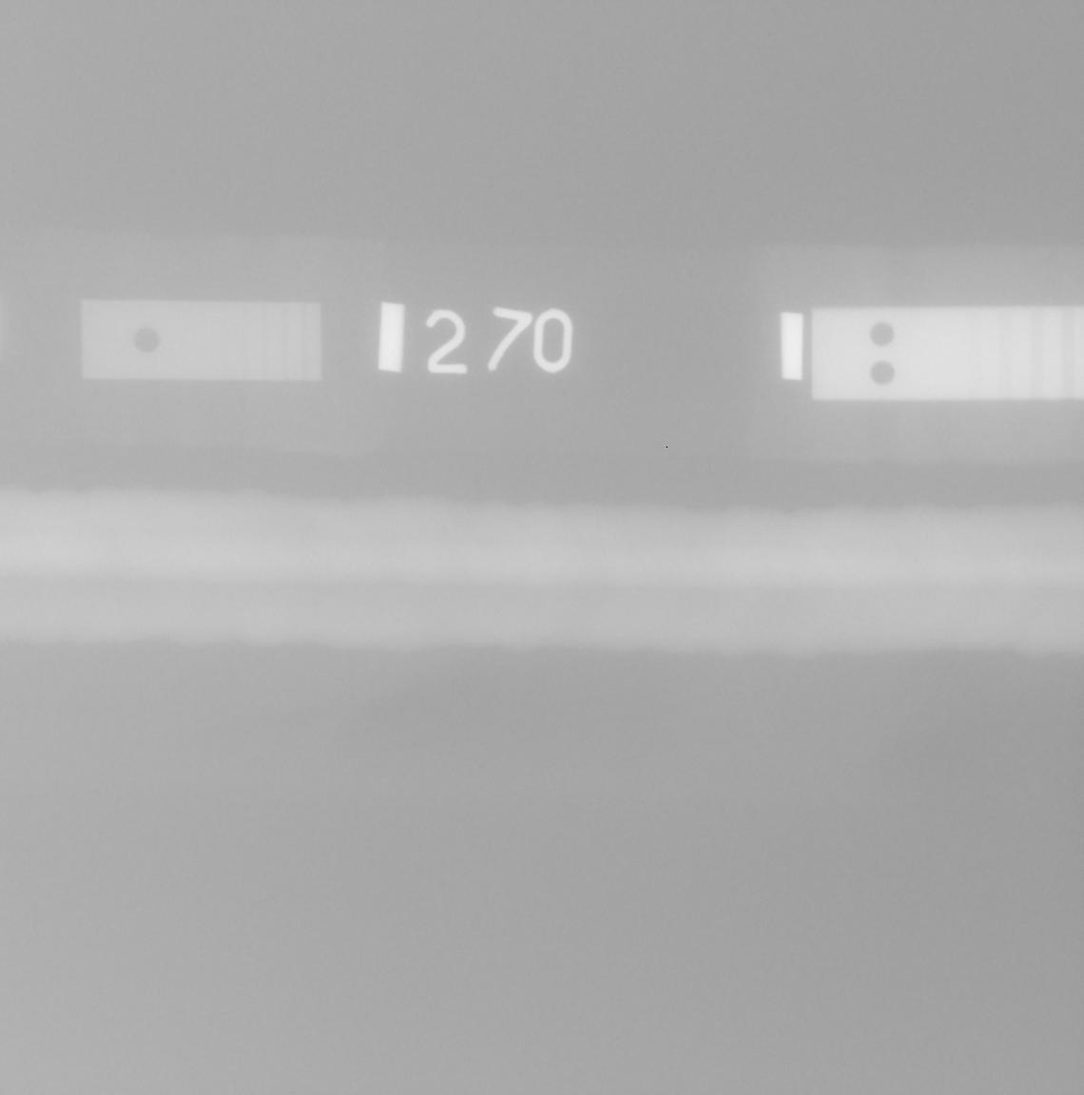Reference Standard 1: (80, 301, 320, 380)
